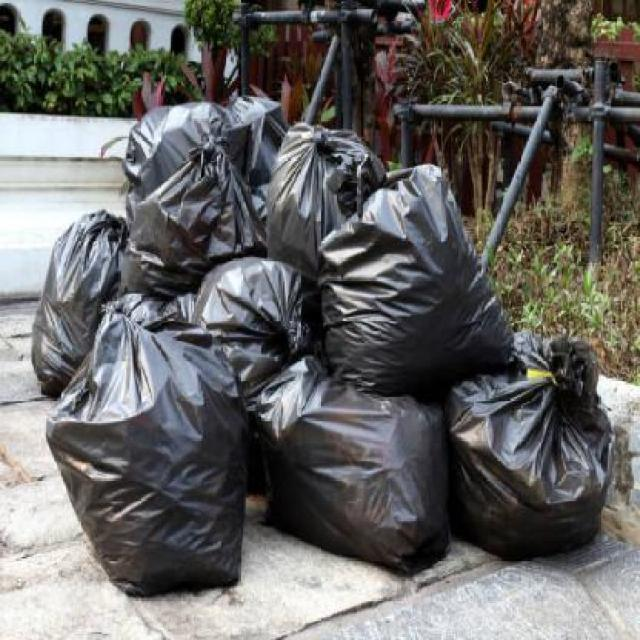Garbage_Bag: (40, 294, 249, 602), (316, 155, 526, 400)
